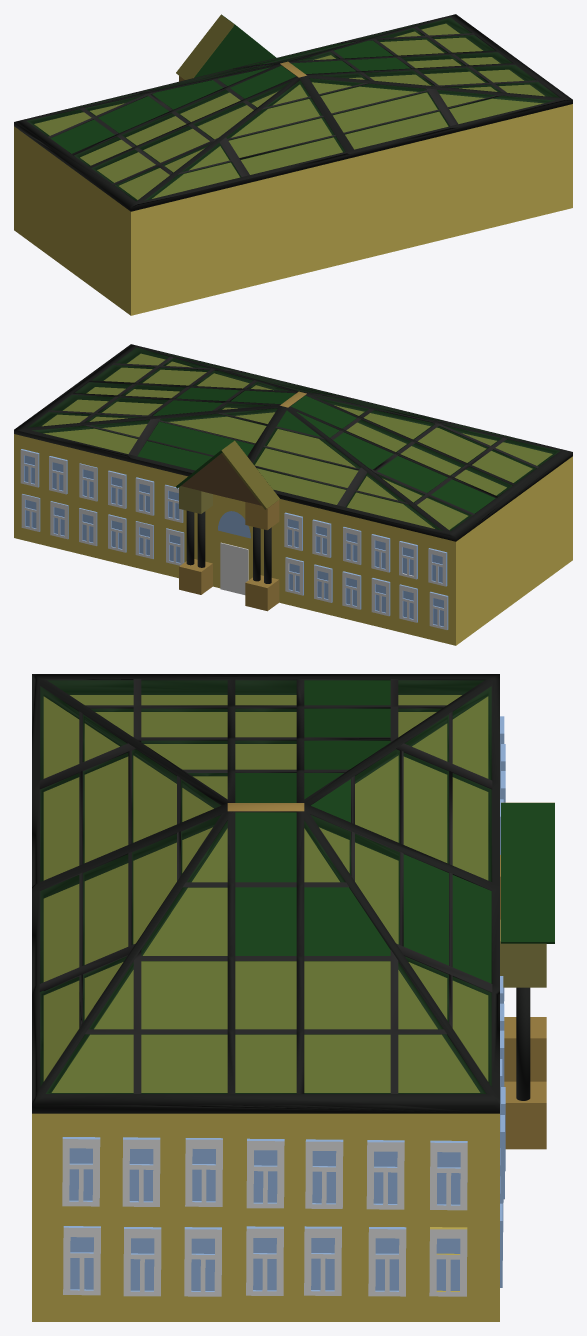
Rendered from administration.fbx.
3 renders of one model, top to bottom at view 1: azimuth 30°, elevation 25°; view 2: azimuth 150°, elevation 25°; view 3: azimuth 270°, elevation 25°, orthographic. The views are drawn at different scales.
Parts seen in each view (by area): view 1: Cube; view 2: Cube; view 3: Cube.
Boxes of the visible parts, x1,y1,x2,y2 form: Cube: (14, 14, 572, 315); Cube: (14, 344, 572, 645); Cube: (32, 674, 554, 1321).
Size of the model in its own units: 4029 by 1312 by 2049.
